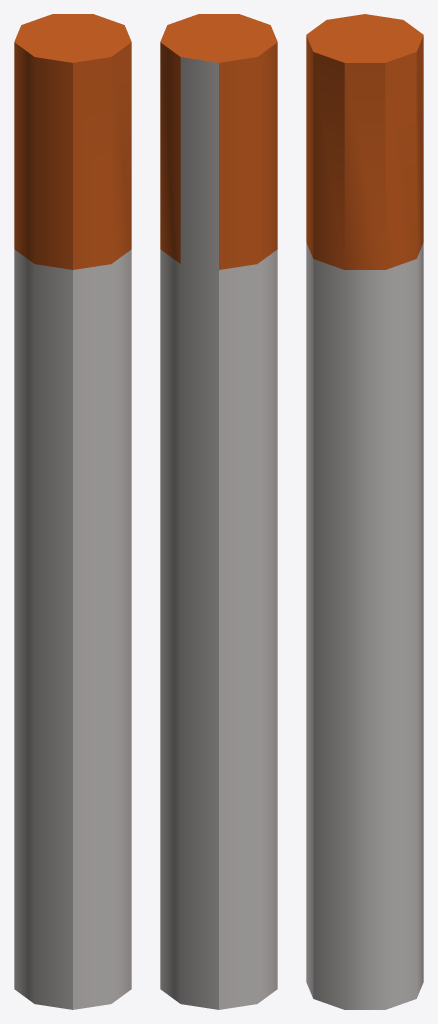
Rendered from cigar.fbx.
3 renders of one model, left to right at view 1: azimuth 30°, elevation 25°; view 2: azimuth 150°, elevation 25°; view 3: azimuth 330°, elevation 25°, orthographic.
Parts seen in each view (by area): view 1: cigar; view 2: cigar; view 3: cigar.
Boxes of the visible parts, x1,y1,x2,y2 form: cigar: [14, 14, 131, 1009]; cigar: [160, 14, 277, 1009]; cigar: [306, 14, 423, 1009].
Bounding box in the file's own units: 52.15 × 471 × 52.95.
